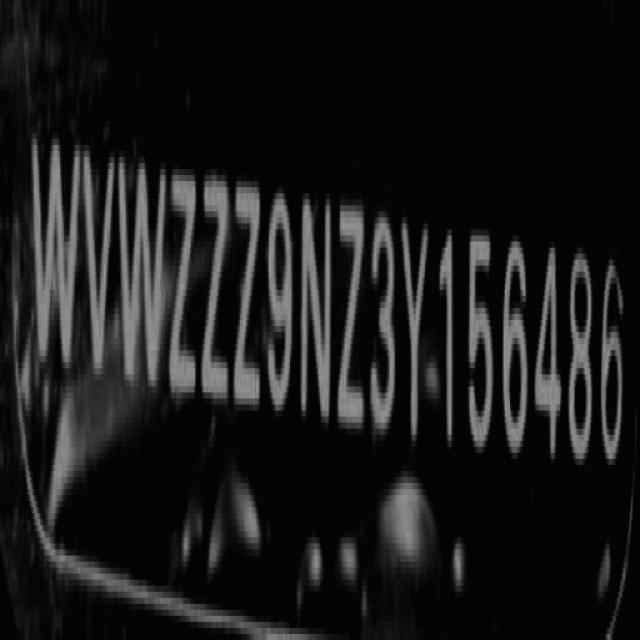1: (438, 216, 458, 456)
3: (367, 212, 399, 436)
4: (536, 240, 565, 469)
5: (467, 220, 496, 460)
6: (503, 230, 530, 463), (601, 250, 627, 469)
8: (569, 242, 596, 471)
9: (265, 179, 294, 424)
N: (298, 183, 334, 430)
V: (81, 132, 115, 382)
W: (32, 125, 82, 371), (121, 149, 165, 402)
Y: (401, 205, 432, 453)
Z: (168, 153, 199, 411), (232, 167, 260, 421), (340, 192, 368, 444), (203, 165, 230, 417)
